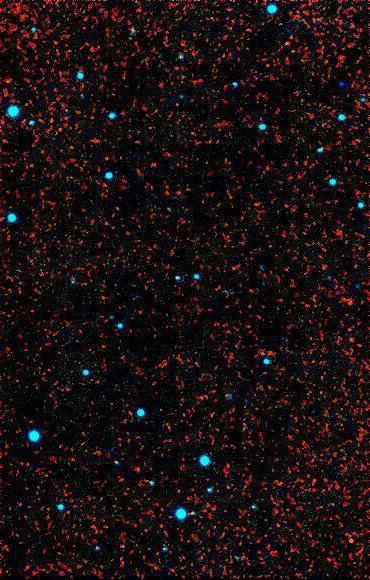star: (331, 71, 361, 101)
